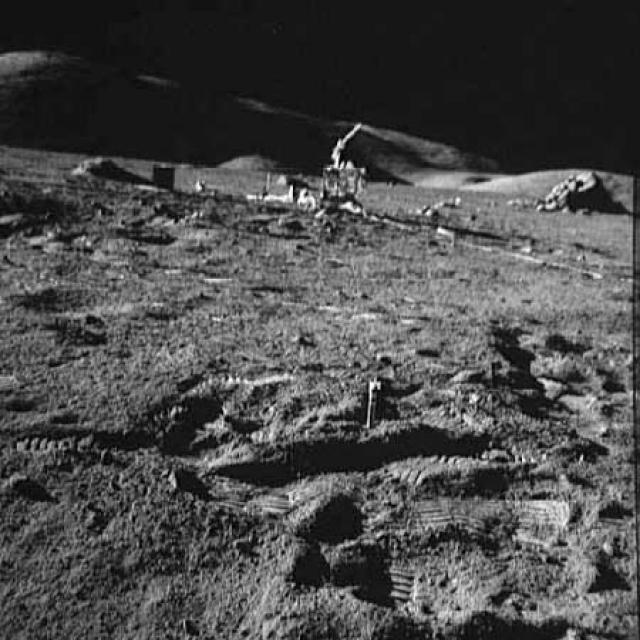artifact: (245, 119, 392, 221)
crater: (22, 281, 150, 315)
rock: (533, 166, 617, 223), (74, 148, 128, 179)
